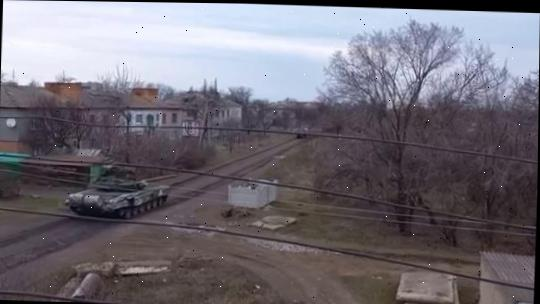tank: (62, 170, 177, 220)
